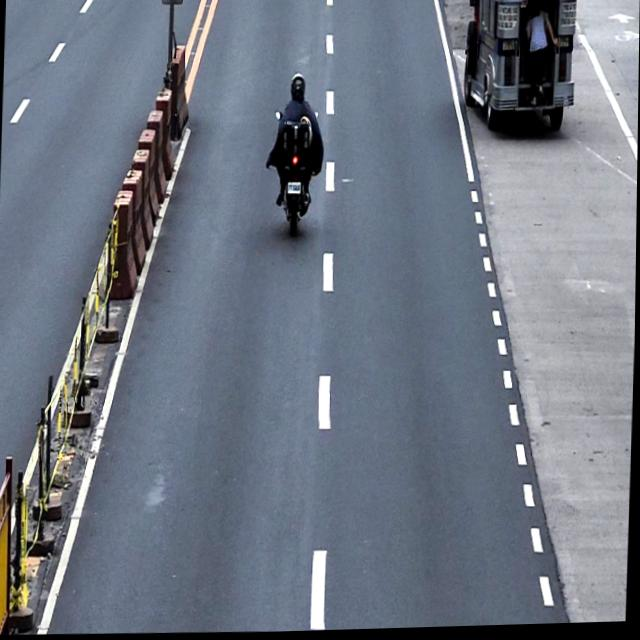Jeep: (461, 0, 579, 142)
License-Plate: (286, 180, 302, 197)
Motorcycle: (272, 109, 321, 236)
